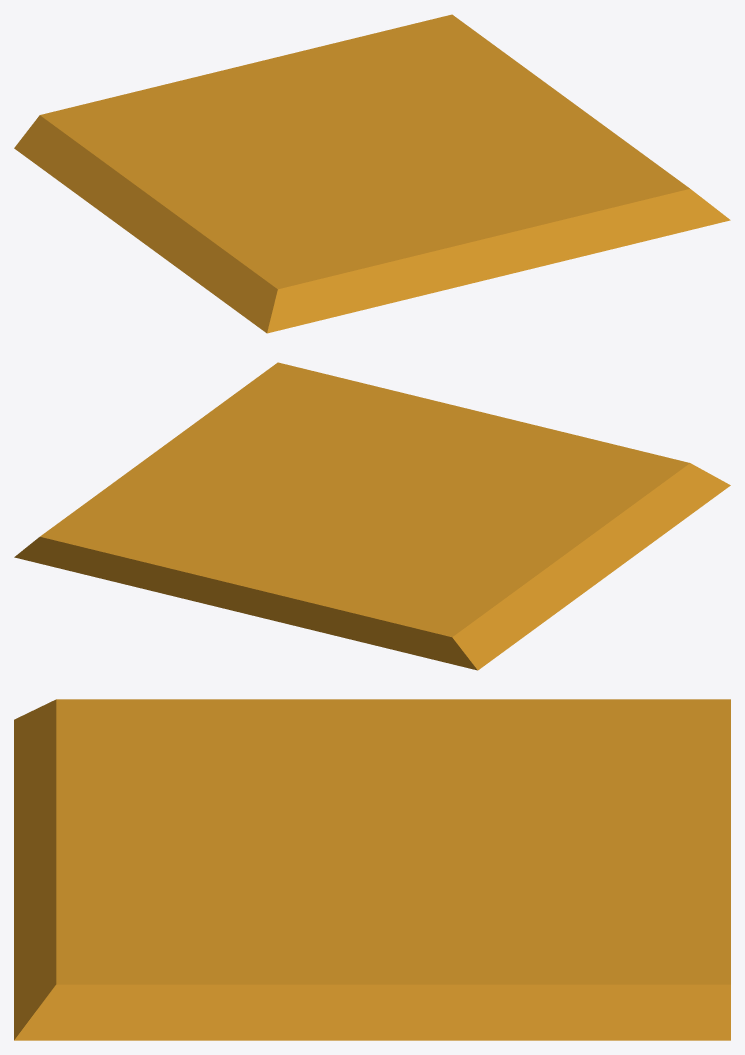
Rendered from Roof-Eaves-4x4-End.FBX.
3 renders of one model, top to bottom at view 1: azimuth 30°, elevation 25°; view 2: azimuth 150°, elevation 25°; view 3: azimuth 270°, elevation 25°, orthographic. The views are drawn at different scales.
Visible parts, largest first — view 1: Roof-Eaves-4x4-End; view 2: Roof-Eaves-4x4-End; view 3: Roof-Eaves-4x4-End.
Boxes of the visible parts, x1,y1,x2,y2 form: Roof-Eaves-4x4-End: (14, 14, 730, 333); Roof-Eaves-4x4-End: (14, 362, 730, 670); Roof-Eaves-4x4-End: (14, 699, 730, 1040).
Size of the model in its own units: 45 by 42.5 by 2.5.
